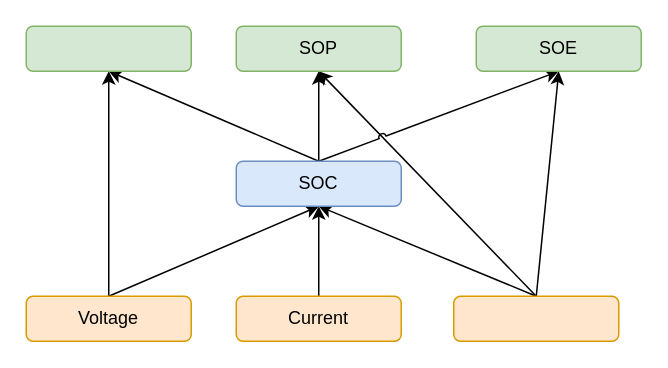
This 668x368 diagram has some shape labels left out. The centre of each missing label's shape, as x and y in pixels:
"SOH" goes at point 108,48.
"Temperature" goes at point 535,318.
